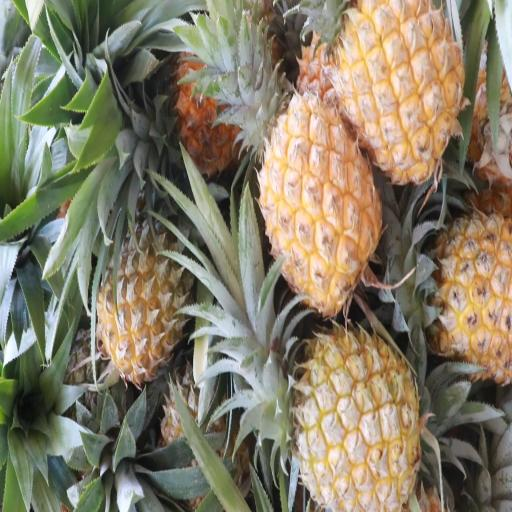Pineapple - v8 v1: (248, 96, 382, 317), (274, 309, 419, 512), (326, 0, 473, 183), (386, 207, 512, 369), (96, 191, 186, 381)
